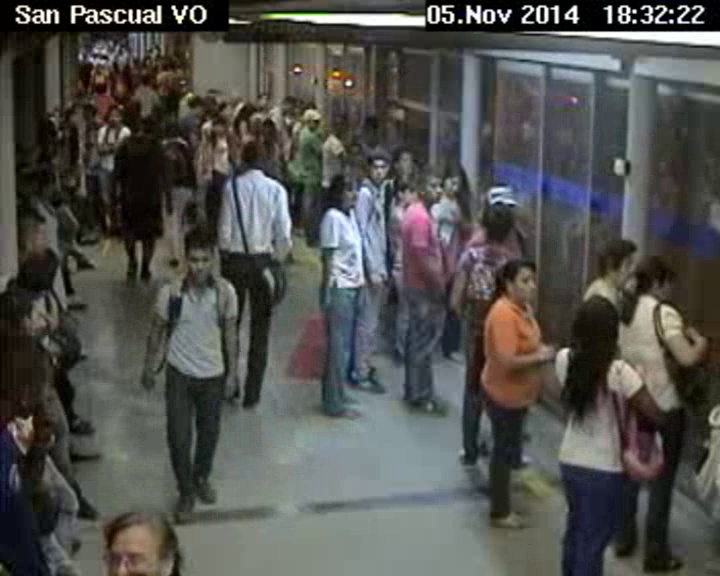person: (97, 503, 191, 576), (567, 291, 626, 367), (1, 293, 61, 343), (6, 206, 60, 258), (632, 251, 681, 305), (595, 230, 638, 289), (494, 249, 533, 305), (477, 197, 514, 243), (182, 233, 214, 283), (326, 167, 361, 212), (236, 133, 266, 173), (414, 171, 446, 207), (359, 153, 394, 180), (32, 168, 60, 198), (443, 163, 469, 194), (389, 144, 413, 177), (361, 115, 381, 145), (343, 138, 363, 167), (80, 101, 102, 125), (233, 104, 257, 125), (138, 114, 158, 139), (394, 177, 414, 201), (58, 119, 78, 143), (302, 109, 323, 131), (245, 112, 264, 136), (282, 105, 297, 133), (106, 102, 124, 124), (210, 115, 227, 137), (189, 95, 204, 117), (254, 92, 271, 111), (331, 112, 345, 135), (139, 73, 153, 86)
